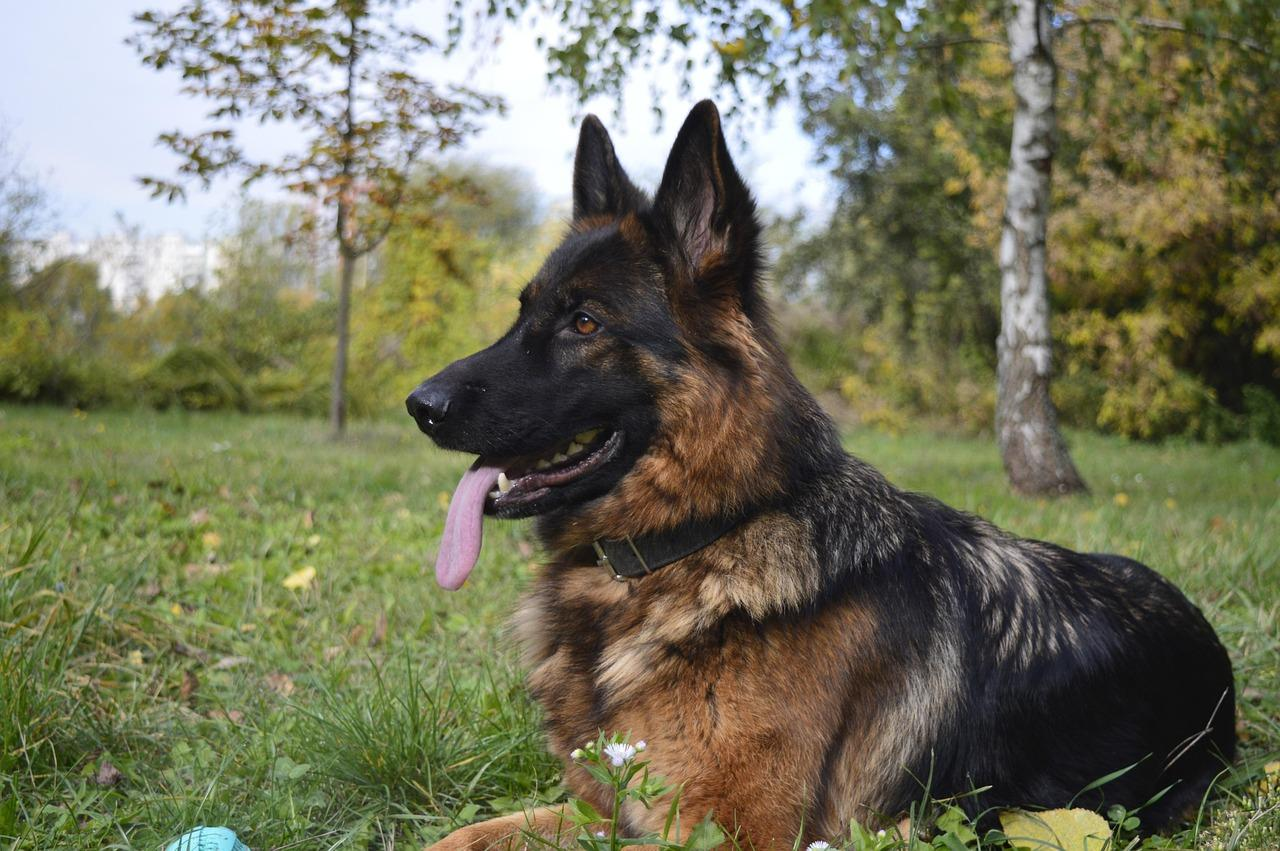german_shepherd: (382, 149, 753, 567)
